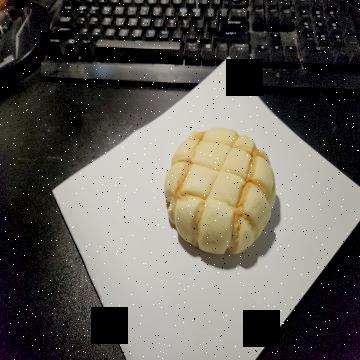melon_bread: (166, 128, 276, 257)
